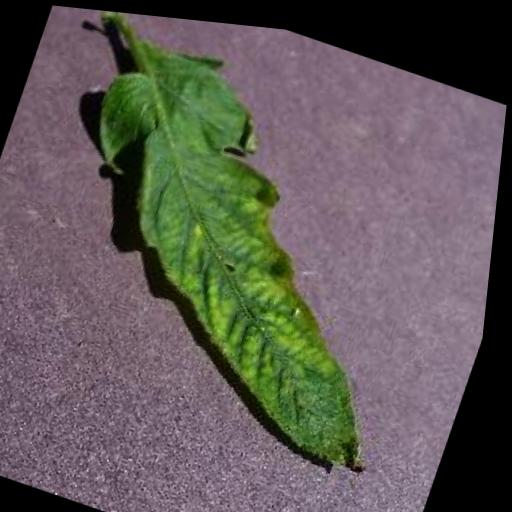Mosaic Virus: (12, 18, 487, 482)
